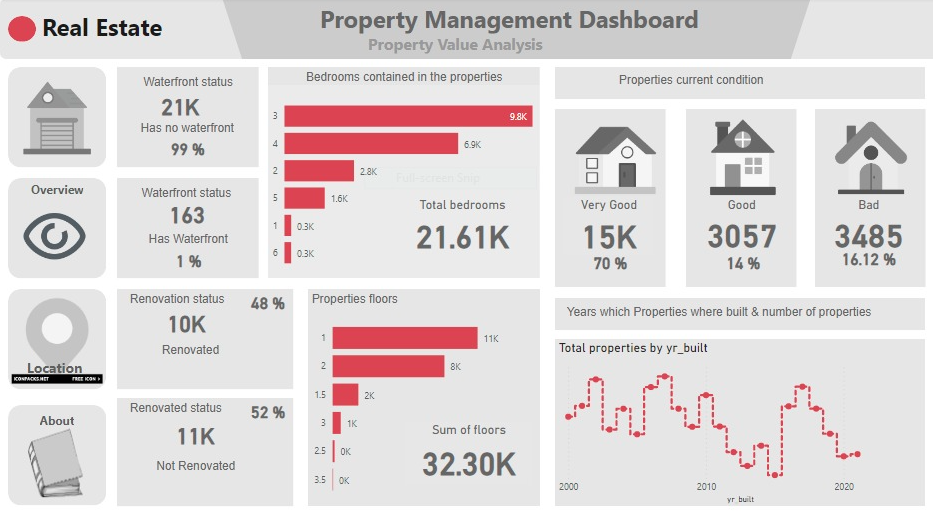

What the dashboard file says about the page in this screenshot:
{"tool":"powerbi","page":{"name":"Overview","canvas":[1280,720],"ordinal":0},"visuals":[{"type":"shape","box":[0,0,1280,83.3],"z":0},{"type":"shape","box":[301.4,0,796.8,83.3],"z":1000},{"type":"shape","box":[12.1,93.9,133.3,136.3],"z":2000},{"type":"shape","box":[12.1,243.9,133.3,136.3],"z":3000},{"type":"shape","box":[12.1,393.8,133.3,136.3],"z":4000},{"type":"shape","box":[12.1,551.4,133.3,136.3],"z":5000},{"type":"shape","box":[159.1,93.9,192.4,136.3],"z":6000},{"type":"shape","box":[159.1,243.9,192.4,136.3],"z":7000},{"type":"shape","box":[363.6,93.9,368.1,286.3],"z":8000},{"type":"shape","box":[159.1,393.8,239.3,136.3],"z":9000},{"type":"shape","box":[159.1,540.8,239.3,146.9],"z":10000},{"type":"shape","box":[418.1,393.8,313.6,293.9],"z":11000},{"type":"shape","box":[752.2,150.1,150.1,241.1],"z":12000},{"type":"shape","box":[752.9,462,501.4,225.7],"z":13000},{"type":"shape","box":[930.1,150,150,240.9],"z":14000},{"type":"shape","box":[1104.3,150,150,240.9],"z":15000},{"type":"shape","box":[752.9,93.9,501.4,43.9],"z":16000},{"type":"shape","box":[752.9,406,501.4,43.9],"z":17000},{"type":"textbox","box":[159.1,100,192.4,37.9],"z":18000},{"type":"textbox","box":[163.8,162.3,182,36.4],"z":19000},{"type":"textbox","box":[159.2,312.4,192.6,37.9],"z":20000},{"type":"textbox","box":[168.3,250.2,171.4,37.9],"z":21000},{"type":"card","fields":{"Values":["Measure Table.Waterefront yes"]},"box":[216.9,270,75.8,44],"z":22000},{"type":"card","fields":{"Values":["Measure Table.Waterfront no"]},"box":[210.8,115.3,68.2,62.2],"z":23000},{"type":"card","fields":{"Values":["Dim_Bedrooms.% waterfront yes"]},"box":[224.5,332.1,63.7,48.5],"z":24000},{"type":"card","fields":{"Values":["Dim_Bedrooms.% waterfront no"]},"box":[207.8,180.5,94,50],"z":25000},{"type":"textbox","box":[171.4,394.3,192.6,37.9],"z":26000},{"type":"textbox","box":[171.4,462.6,174.4,37.9],"z":27000},{"type":"textbox","box":[171.4,541.4,192.6,37.9],"z":28000},{"type":"textbox","box":[182,620.3,169.9,37.9],"z":29000},{"type":"card","fields":{"Values":["Dim_Bedrooms.Renovated"]},"box":[218.4,414,71.3,48.5],"z":30000},{"type":"card","fields":{"Values":["Measure Table.Not Renovated"]},"box":[224.5,567.2,81.9,47],"z":31000},{"type":"card","fields":{"Values":["Measure Table.% Renovated"]},"box":[333.6,394.3,59.1,37.9],"z":32000},{"type":"card","fields":{"Values":["Measure Table.% Not Renovated"]},"box":[333.6,541.4,59.1,37.9],"z":33000},{"type":"textbox","box":[364,94,368.5,36.4],"z":34000},{"type":"textbox","box":[418.6,394.3,313.9,33.4],"z":35000},{"type":"textbox","box":[752.2,97.1,368.5,36.4],"z":36000},{"type":"textbox","box":[762.8,411,491.4,36.4],"z":37000},{"type":"barChart","fields":{"Y":["CountNonNull(FactTable.bedrooms)"],"Category":["FactTable.Bedrooms 2"]},"box":[364,118.3,368.5,262.4],"z":38000},{"type":"card","title":"Total bedrooms","fields":{"Values":["CountNonNull(FactTable.bedrooms)"]},"box":[533.8,270,188.1,80.4],"z":39000},{"type":"barChart","fields":{"Y":["CountNonNull(FactTable.floors)"],"Category":["FactTable.Floors 2"]},"box":[418.6,417.1,313.9,271.5],"z":40000},{"type":"card","title":"Sum of floors","fields":{"Values":["Sum(FactTable.floors)"]},"box":[549,573.3,172.9,84.9],"z":41000},{"type":"lineChart","fields":{"Category":["FactTable.yr_built"],"Y":["Measure Table.Total properties"]},"box":[752.2,462.6,502,226],"z":42000},{"type":"card","title":"Very Good","fields":{"Values":["Measure Table.Very good"]},"box":[762.8,270,124.4,78.9],"z":43000},{"type":"card","title":"Good","fields":{"Values":["Measure Table.Good"]},"box":[932.7,270,145.6,77.3],"z":44000},{"type":"card","title":"Bad","fields":{"Values":["Measure Table.Bad"]},"box":[1104.1,270,145.6,77.3],"z":45000},{"type":"card","fields":{"Values":["Measure Table.% Verygood"]},"box":[793.2,336.7,68.2,44],"z":46000},{"type":"card","fields":{"Values":["Measure Table.% Good"]},"box":[973.6,336.7,68.2,44],"z":47000},{"type":"card","fields":{"Values":["Measure Table.% Bad"]},"box":[1131.4,332.1,91,44],"z":48000},{"type":"textbox","box":[363.6,0,652.9,53],"z":49000},{"type":"shape","box":[12.1,24.2,37.9,34.8],"z":50000},{"type":"textbox","box":[481.7,42.4,271.1,37.9],"z":51000},{"type":"image","box":[12.1,269.6,125.7,106],"z":52000},{"type":"textbox","box":[53,10.6,206,62.1],"z":53000},{"type":"image","box":[21.2,575.6,107.6,107.6],"z":54000},{"type":"image","box":[12.1,393.8,133.3,133.3],"z":55000},{"type":"image","box":[763.5,159.1,140.9,119.7],"z":56000},{"type":"image","box":[945.2,159.1,124.2,112.1],"z":57000},{"type":"image","box":[1125.5,162.1,107.6,107.6],"z":58000},{"type":"image","box":[24.2,106,107.6,113.6],"z":59000},{"type":"actionButton","box":[12.1,243.9,133.3,131.8],"z":59001},{"type":"actionButton","box":[28.8,552.9,100,36.4],"z":59002},{"type":"actionButton","box":[12.1,393.8,125.7,122.7],"z":59003}]}

Visuals, with their boxes in screenshot pixels (x1, y1, x2, y2), scaled from the page's 1280x720 canvas onto the 933x514 screenshot:
shape: [x1=0, y1=0, x2=932, y2=59]
shape: [x1=220, y1=0, x2=800, y2=59]
shape: [x1=9, y1=67, x2=106, y2=164]
shape: [x1=9, y1=174, x2=106, y2=271]
shape: [x1=9, y1=281, x2=106, y2=378]
shape: [x1=9, y1=394, x2=106, y2=491]
shape: [x1=116, y1=67, x2=256, y2=164]
shape: [x1=116, y1=174, x2=256, y2=271]
shape: [x1=265, y1=67, x2=533, y2=271]
shape: [x1=116, y1=281, x2=290, y2=378]
shape: [x1=116, y1=386, x2=290, y2=491]
shape: [x1=305, y1=281, x2=533, y2=491]
shape: [x1=548, y1=107, x2=658, y2=279]
shape: [x1=549, y1=330, x2=914, y2=491]
shape: [x1=678, y1=107, x2=787, y2=279]
shape: [x1=805, y1=107, x2=914, y2=279]
shape: [x1=549, y1=67, x2=914, y2=98]
shape: [x1=549, y1=290, x2=914, y2=321]
textbox: [x1=116, y1=71, x2=256, y2=98]
textbox: [x1=119, y1=116, x2=252, y2=142]
textbox: [x1=116, y1=223, x2=256, y2=250]
textbox: [x1=123, y1=179, x2=248, y2=206]
card - Measure Table.Waterefront yes: [x1=158, y1=193, x2=213, y2=224]
card - Measure Table.Waterfront no: [x1=154, y1=82, x2=203, y2=127]
card - Dim_Bedrooms.% waterfront yes: [x1=164, y1=237, x2=210, y2=272]
card - Dim_Bedrooms.% waterfront no: [x1=151, y1=129, x2=220, y2=165]
textbox: [x1=125, y1=281, x2=265, y2=309]
textbox: [x1=125, y1=330, x2=252, y2=357]
textbox: [x1=125, y1=386, x2=265, y2=414]
textbox: [x1=133, y1=443, x2=257, y2=470]
card - Dim_Bedrooms.Renovated: [x1=159, y1=296, x2=211, y2=330]
card - Measure Table.Not Renovated: [x1=164, y1=405, x2=223, y2=438]
card - Measure Table.% Renovated: [x1=243, y1=281, x2=286, y2=309]
card - Measure Table.% Not Renovated: [x1=243, y1=386, x2=286, y2=414]
textbox: [x1=265, y1=67, x2=534, y2=93]
textbox: [x1=305, y1=281, x2=534, y2=305]
textbox: [x1=548, y1=69, x2=817, y2=95]
textbox: [x1=556, y1=293, x2=914, y2=319]
barChart - CountNonNull(FactTable.bedrooms) x FactTable.Bedrooms 2: [x1=265, y1=84, x2=534, y2=272]
"Total bedrooms" card: [x1=389, y1=193, x2=526, y2=250]
barChart - CountNonNull(FactTable.floors) x FactTable.Floors 2: [x1=305, y1=298, x2=534, y2=492]
"Sum of floors" card: [x1=400, y1=409, x2=526, y2=470]
lineChart - FactTable.yr_built x Measure Table.Total properties: [x1=548, y1=330, x2=914, y2=492]
"Very Good" card: [x1=556, y1=193, x2=647, y2=249]
"Good" card: [x1=680, y1=193, x2=786, y2=248]
"Bad" card: [x1=805, y1=193, x2=911, y2=248]
card - Measure Table.% Verygood: [x1=578, y1=240, x2=628, y2=272]
card - Measure Table.% Good: [x1=710, y1=240, x2=759, y2=272]
card - Measure Table.% Bad: [x1=825, y1=237, x2=891, y2=268]
textbox: [x1=265, y1=0, x2=741, y2=38]
shape: [x1=9, y1=17, x2=36, y2=42]
textbox: [x1=351, y1=30, x2=549, y2=57]
image: [x1=9, y1=192, x2=100, y2=268]
textbox: [x1=39, y1=8, x2=189, y2=52]
image: [x1=15, y1=411, x2=94, y2=488]
image: [x1=9, y1=281, x2=106, y2=376]
image: [x1=557, y1=114, x2=659, y2=199]
image: [x1=689, y1=114, x2=779, y2=194]
image: [x1=820, y1=116, x2=899, y2=193]
image: [x1=18, y1=76, x2=96, y2=157]
actionButton: [x1=9, y1=174, x2=106, y2=268]
actionButton: [x1=21, y1=395, x2=94, y2=421]
actionButton: [x1=9, y1=281, x2=100, y2=369]
